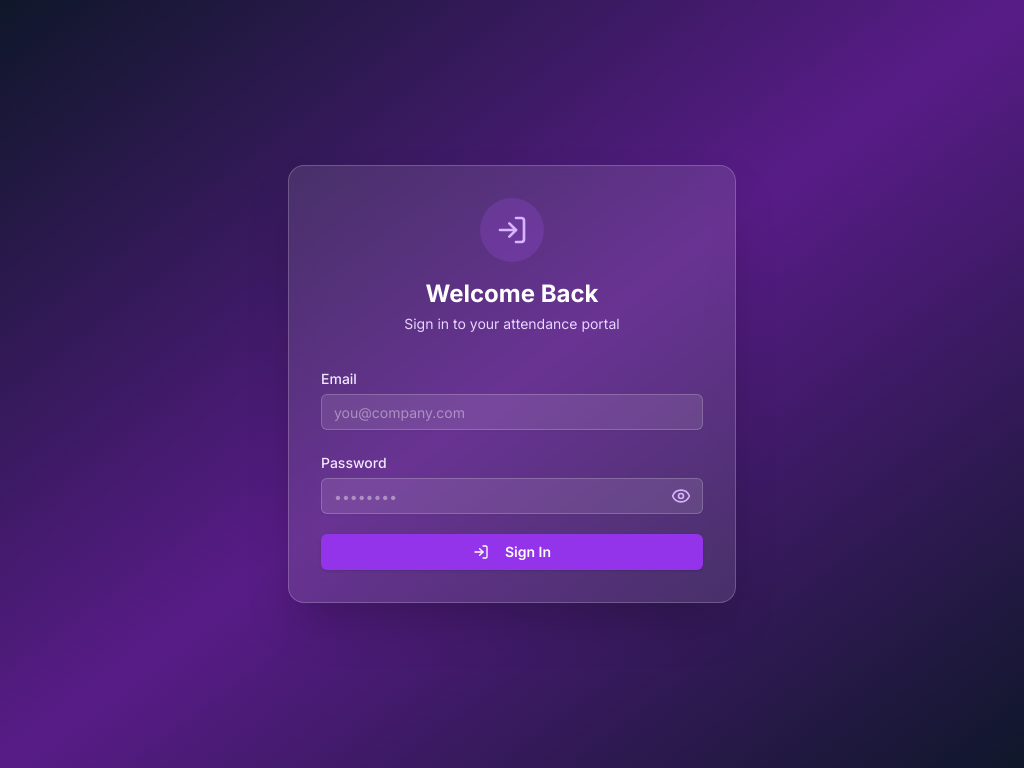
Test: LoginPage › shows "Invalid email or password" error on 401 response
Type "user@company.com" into the field labelled "Email" at (512, 412), box top-left (321, 394), bottom-right (703, 430)
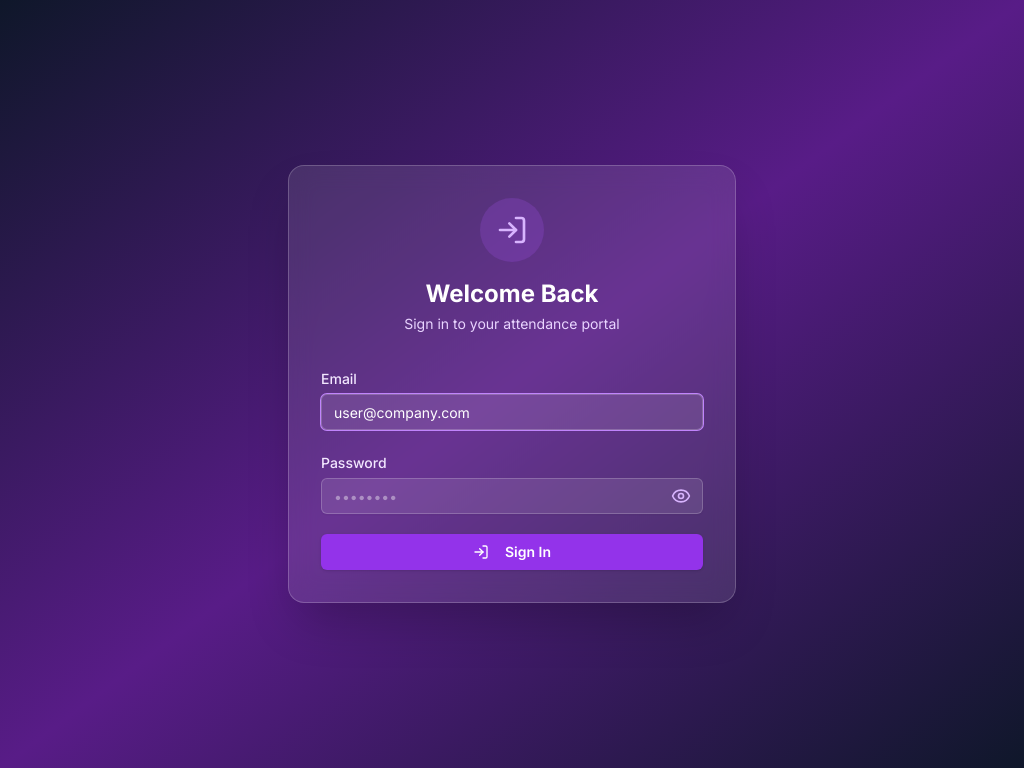
Type "wrongpass" into the password field labelled "Password" at (512, 496), box top-left (321, 478), bottom-right (703, 514)
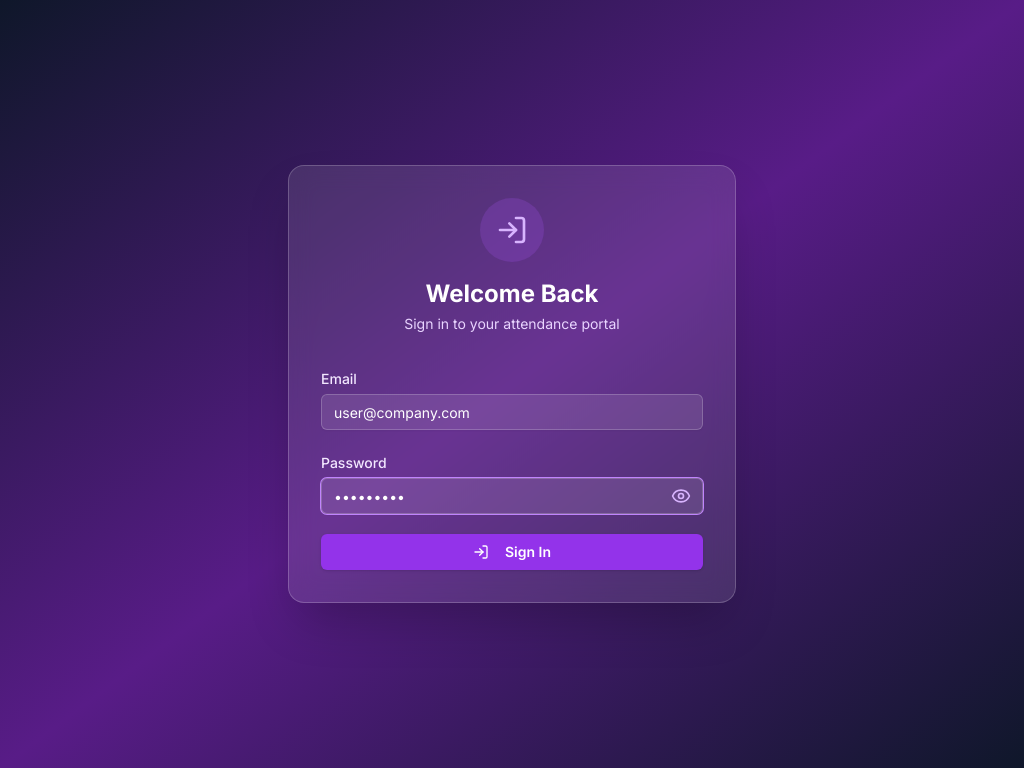
Submit the form, box top-left (321, 366), bottom-right (703, 570)
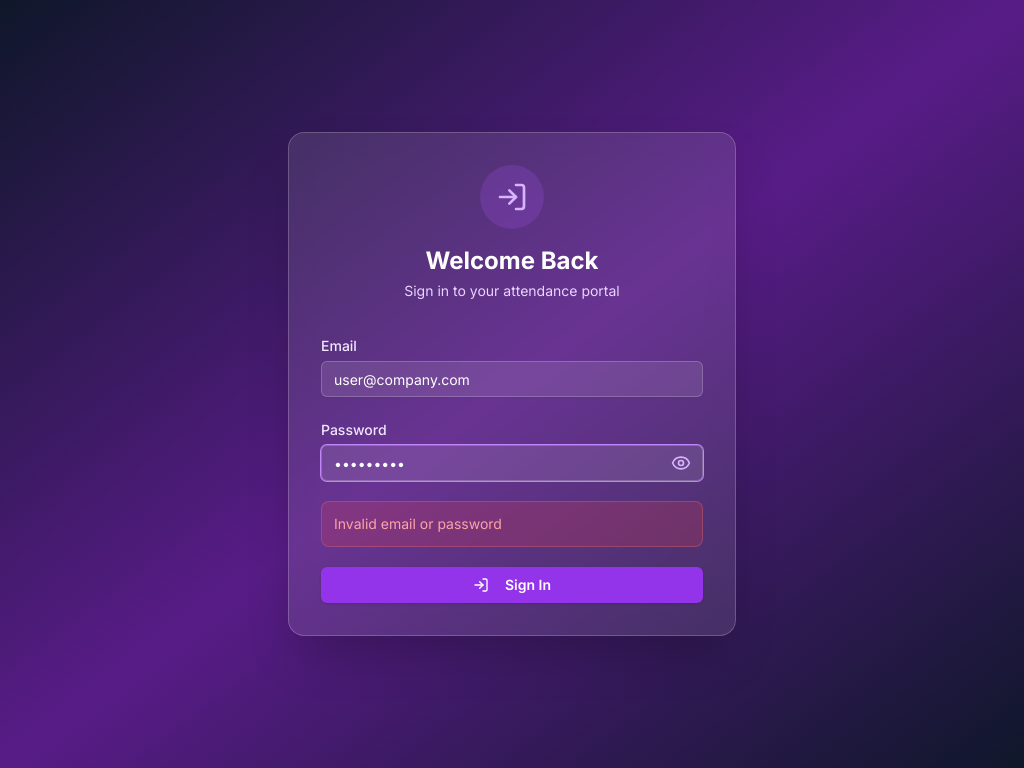
Now the text "Invalid email or password" is shown, box top-left (334, 515), bottom-right (502, 532)
